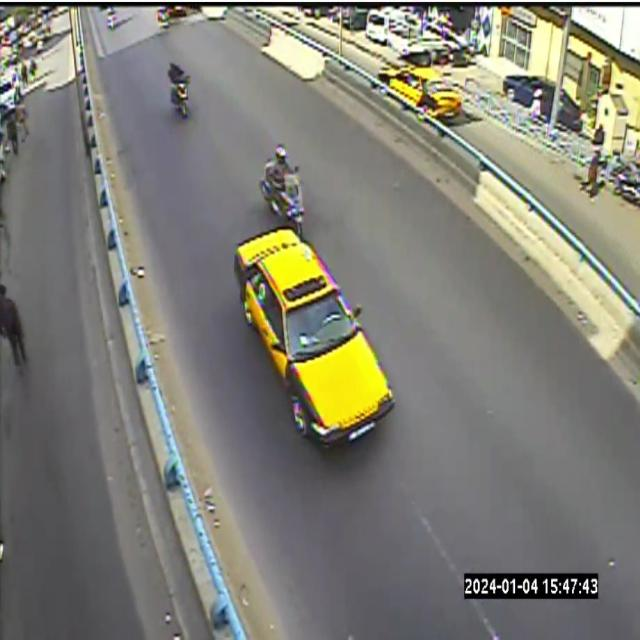car: (377, 66, 463, 123)
